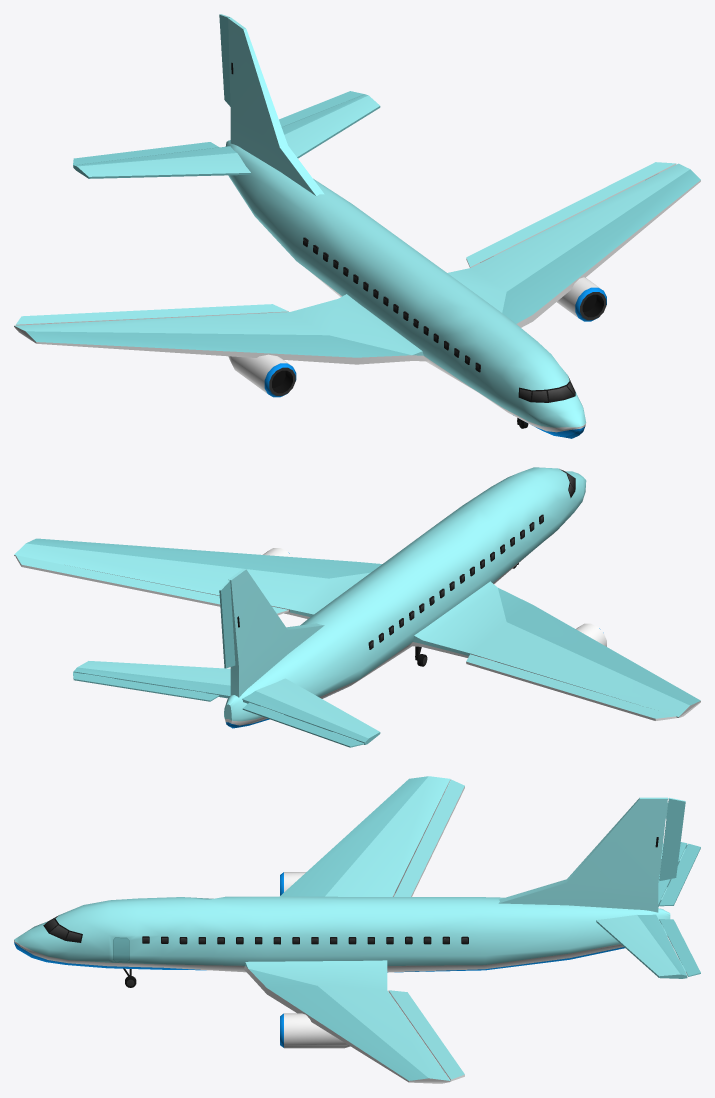
The model's file is FeiJi003.fbx.
3 renders of one model, top to bottom at view 1: azimuth 30°, elevation 25°; view 2: azimuth 150°, elevation 25°; view 3: azimuth 270°, elevation 25°, orthographic. The views are drawn at different scales.
Visible parts, largest first — view 1: FeiJi003; view 2: FeiJi003; view 3: FeiJi003.
Part boxes in pixels (left/top/right/bottom): FeiJi003: left=14, top=14, right=700, bottom=438; FeiJi003: left=14, top=467, right=700, bottom=747; FeiJi003: left=14, top=776, right=700, bottom=1083.
Bounding box in the file's own units: 4543 × 1308 × 4365.
